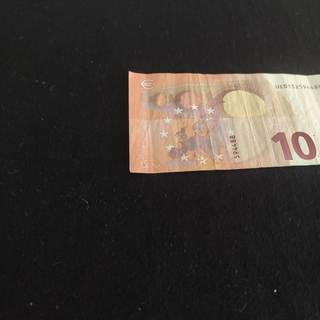10EUROBack: (128, 69, 320, 174)
